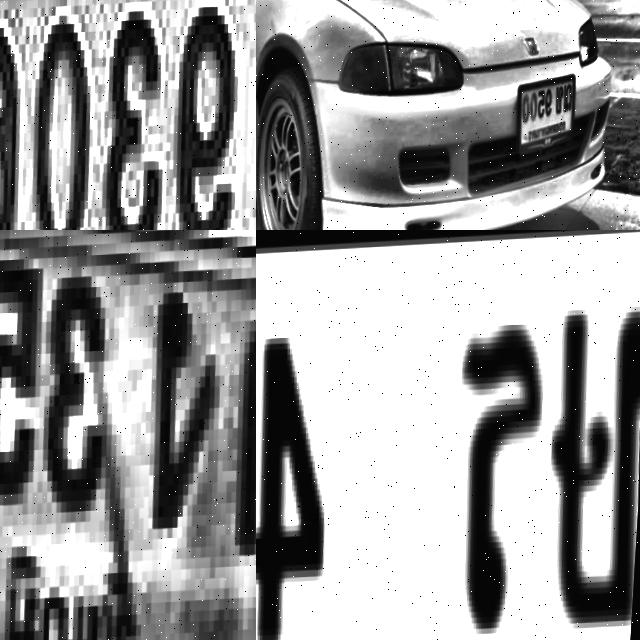license-plate: (256, 230, 640, 640), (0, 230, 256, 640), (0, 0, 256, 230), (518, 72, 585, 151)
